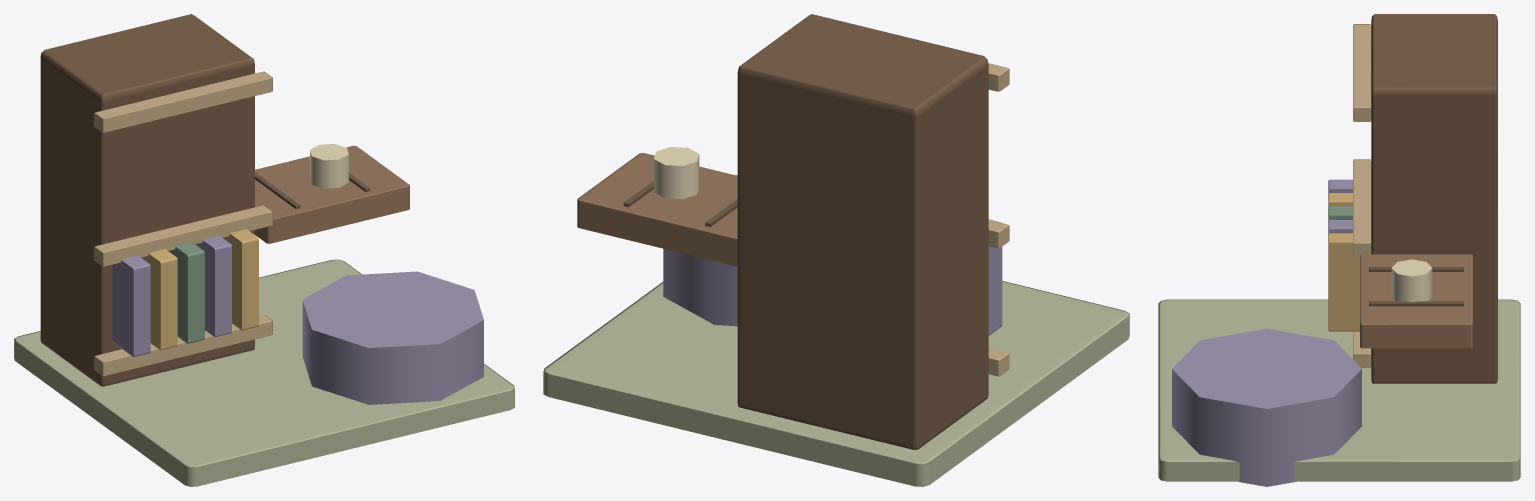
File: readingnook-2.glb
The picture shows the model from 3 angles, left to right: view 1: azimuth 30°, elevation 25°; view 2: azimuth 150°, elevation 25°; view 3: azimuth 270°, elevation 25°; orthographic projection. The views are drawn at different scales.
Parts seen in each view (by area): view 1: readingnook-2-0; view 2: readingnook-2-0; view 3: readingnook-2-0.
Boxes of the visible parts, x1,y1,x2,y2 form: readingnook-2-0: (14,14,514,486); readingnook-2-0: (543,14,1129,486); readingnook-2-0: (1158,14,1520,486).
Size of the model in its own units: 0.875 by 0.77 by 0.8.
